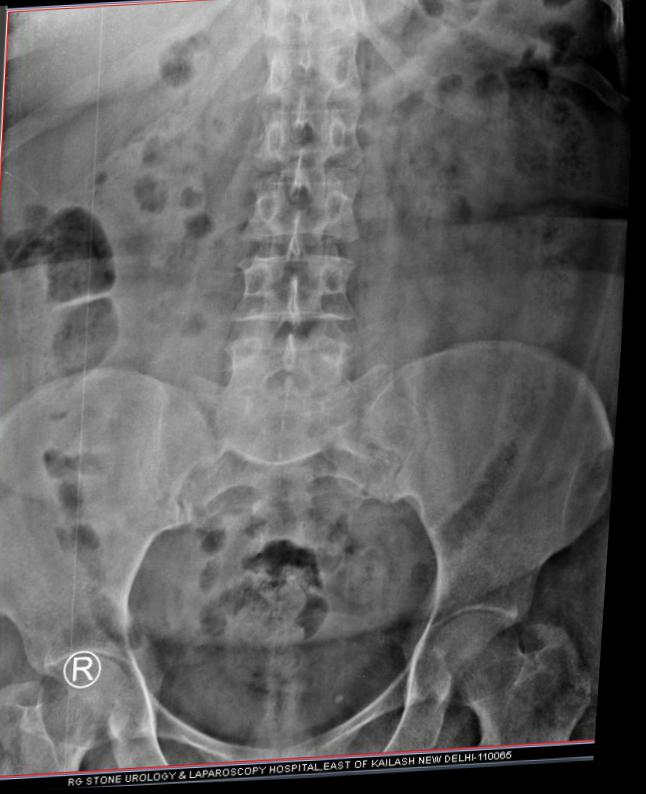vertebrae: (257, 41, 368, 112)
